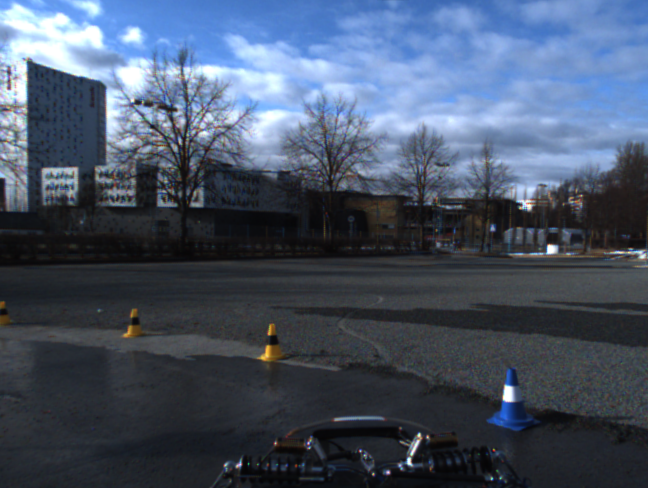cone-small-blue: (486, 368, 541, 432)
cone-small-yellow: (257, 323, 287, 362), (121, 308, 146, 339), (1, 299, 16, 326)
